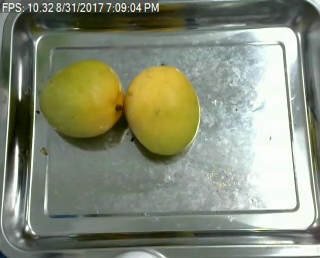Mango: (37, 60, 123, 141), (125, 66, 200, 158)
